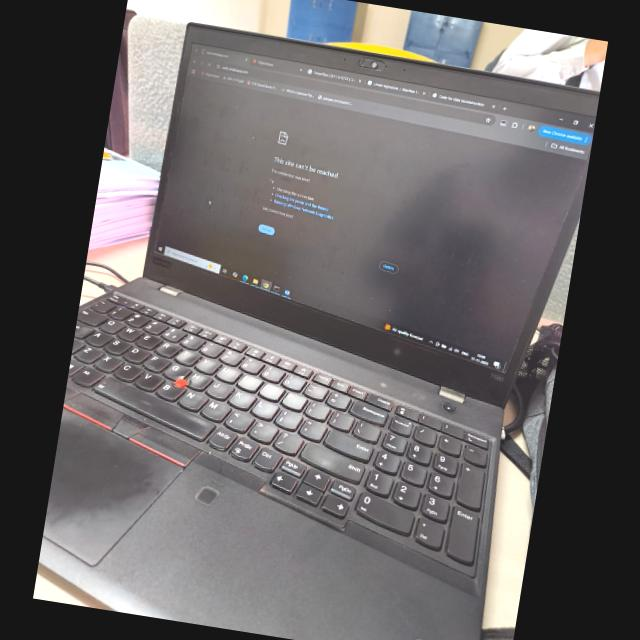laptop: (32, 1, 602, 640)
